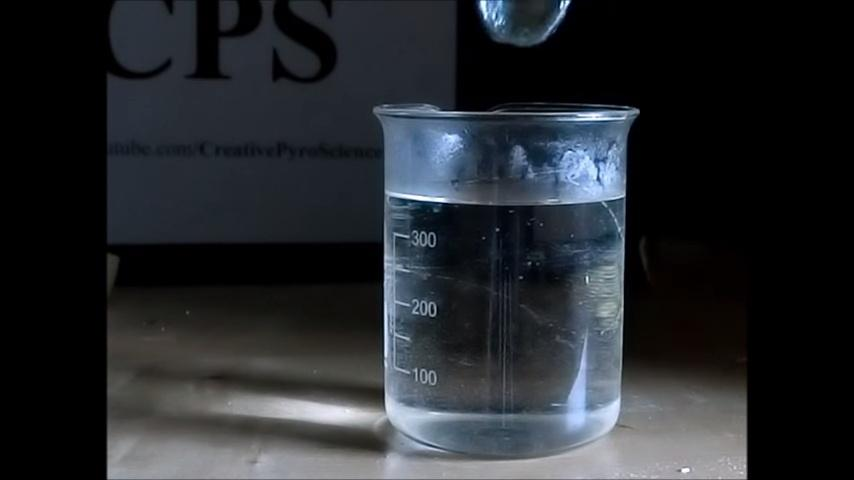Beaker: (365, 98, 640, 457)
